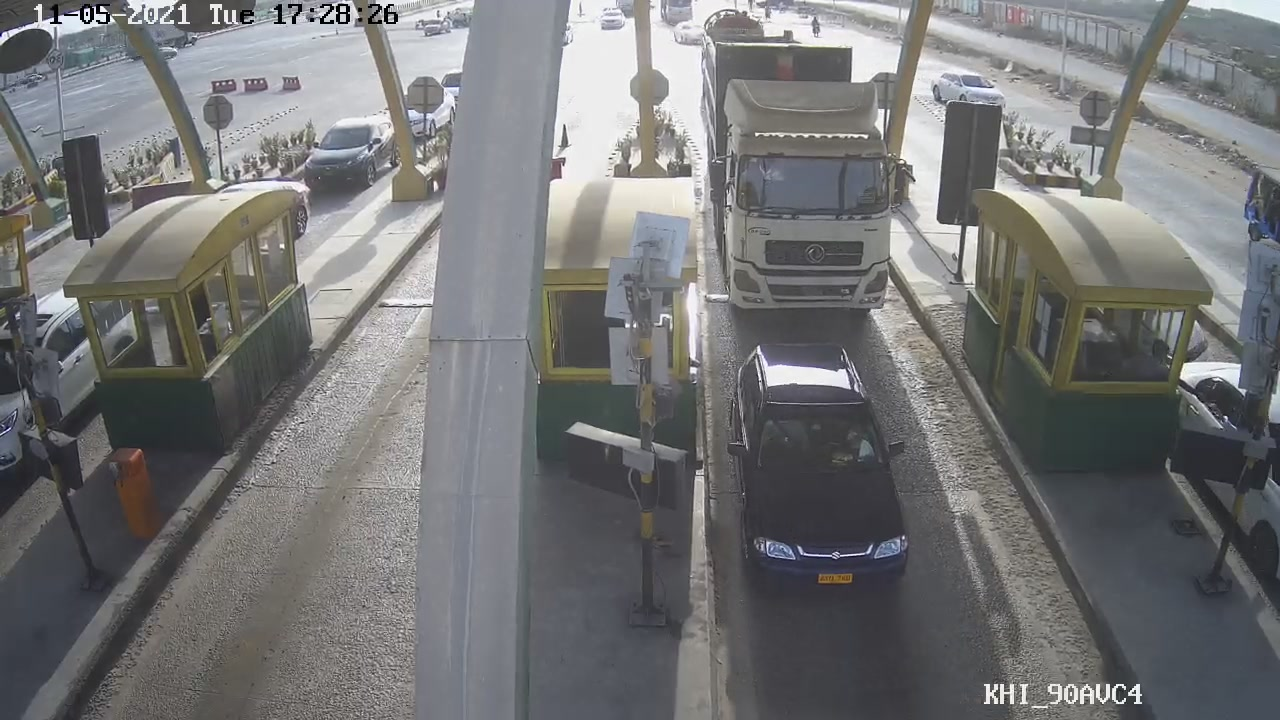F1: (728, 331, 903, 612)
F6: (690, 20, 915, 318)
